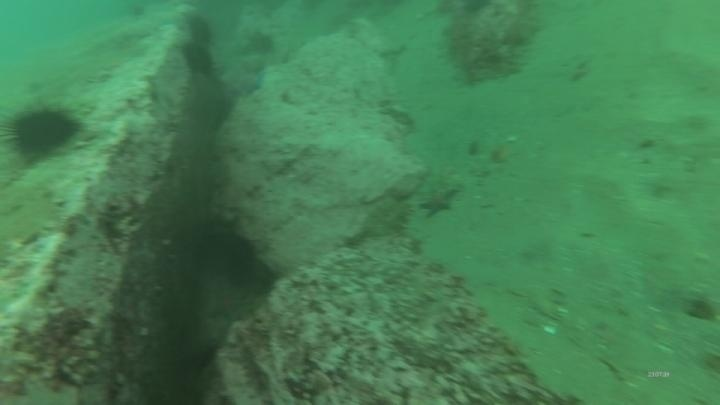echinus: (181, 218, 262, 290), (2, 99, 83, 164), (184, 76, 233, 133), (180, 41, 216, 78), (184, 14, 216, 49)
starfish: (138, 324, 221, 405), (204, 280, 252, 324), (416, 181, 462, 219), (229, 67, 267, 100)
